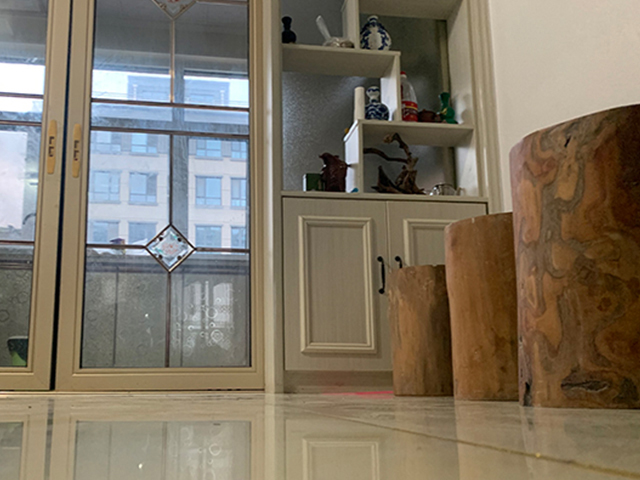cabinet: (274, 186, 490, 395)
stool: (508, 103, 640, 413), (444, 211, 519, 403), (385, 264, 452, 399)
